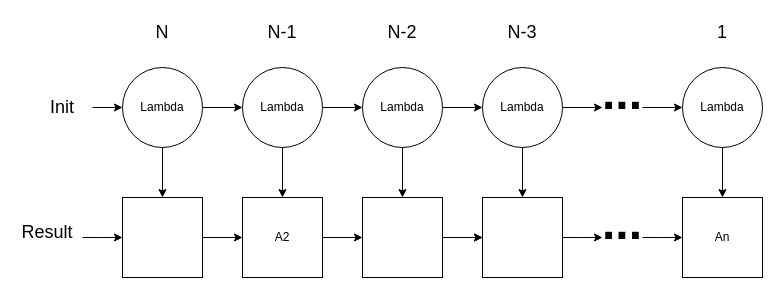
The diagram is 780 pixels wide and 295 high, and some of its shapes have lost their labels. The shapes that lost their labels are listed below. From the top down, each one's centre as x and y in pixels, then its label:
At (162,237): "A1".
At (402,237): "A3".
At (522,237): "A4".
